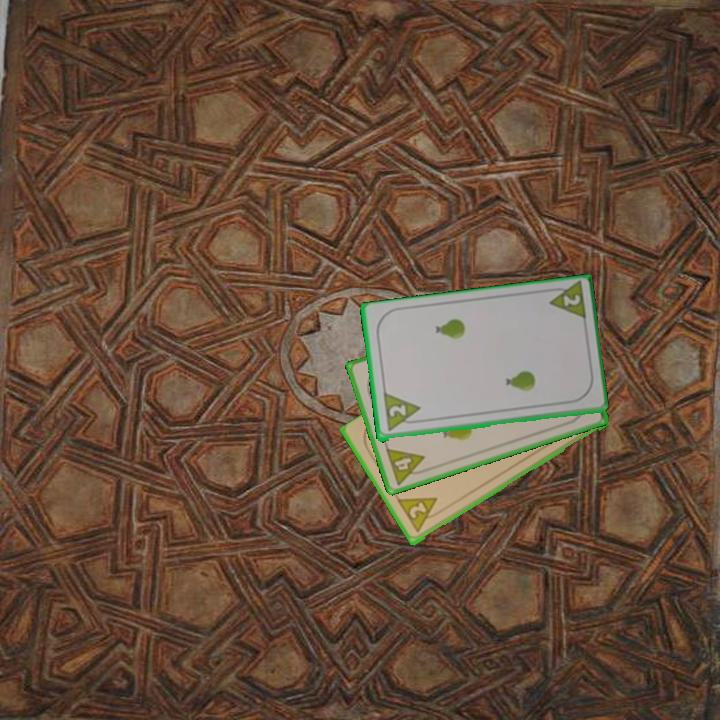2p: (394, 494, 446, 536), (543, 280, 589, 324), (380, 391, 424, 434)
4p: (382, 444, 431, 488)
